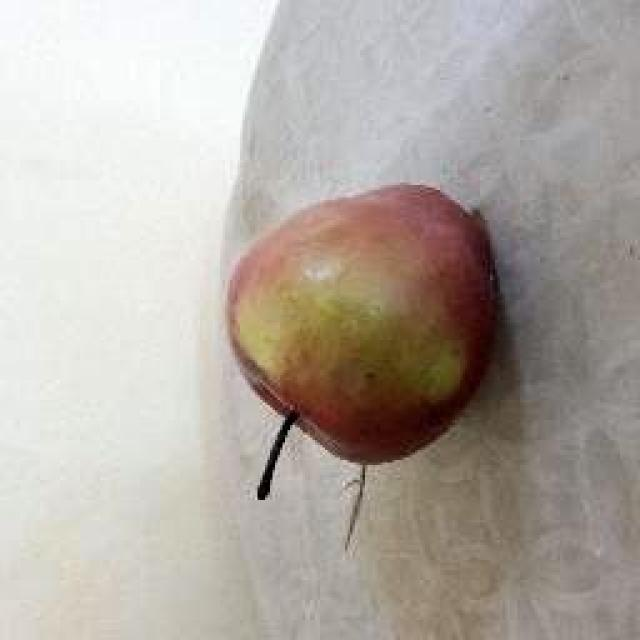Good_Apple: (225, 185, 500, 468)
